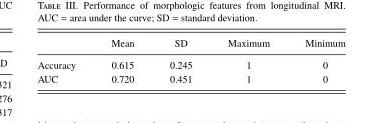table: (36, 36, 344, 84)
table column: (209, 36, 286, 84), (92, 36, 151, 84), (151, 36, 209, 84), (286, 36, 344, 84), (36, 36, 92, 84)
table column header: (36, 36, 344, 53)
table row: (36, 53, 344, 71), (36, 36, 344, 53), (36, 71, 344, 84)
